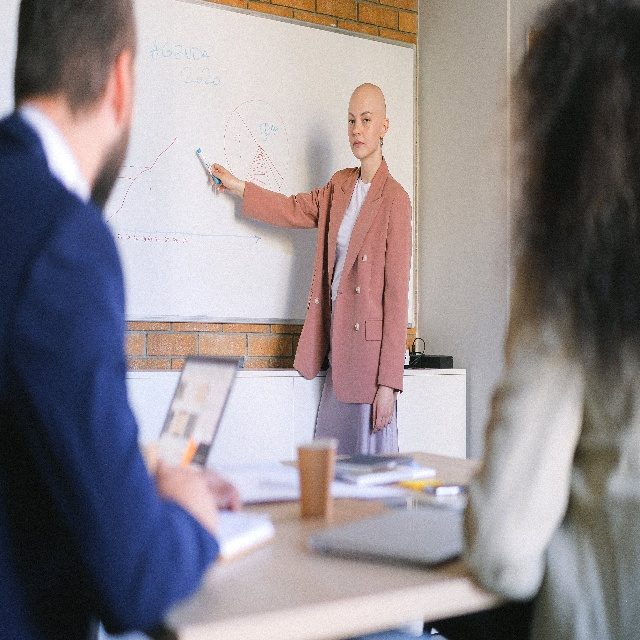Sin_guantes: (157, 459, 219, 529), (207, 469, 240, 510), (372, 385, 396, 437), (208, 163, 234, 194)
